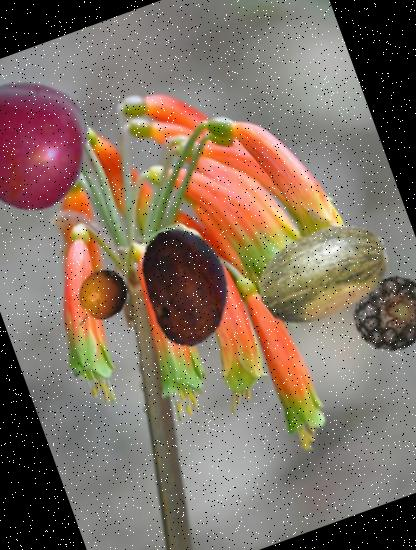Cherry: (0, 60, 106, 228)
Chestnut: (110, 210, 264, 363)
Granadilla: (57, 258, 140, 340)
Melon: (238, 187, 410, 359)
Pineapple: (341, 260, 416, 366)
